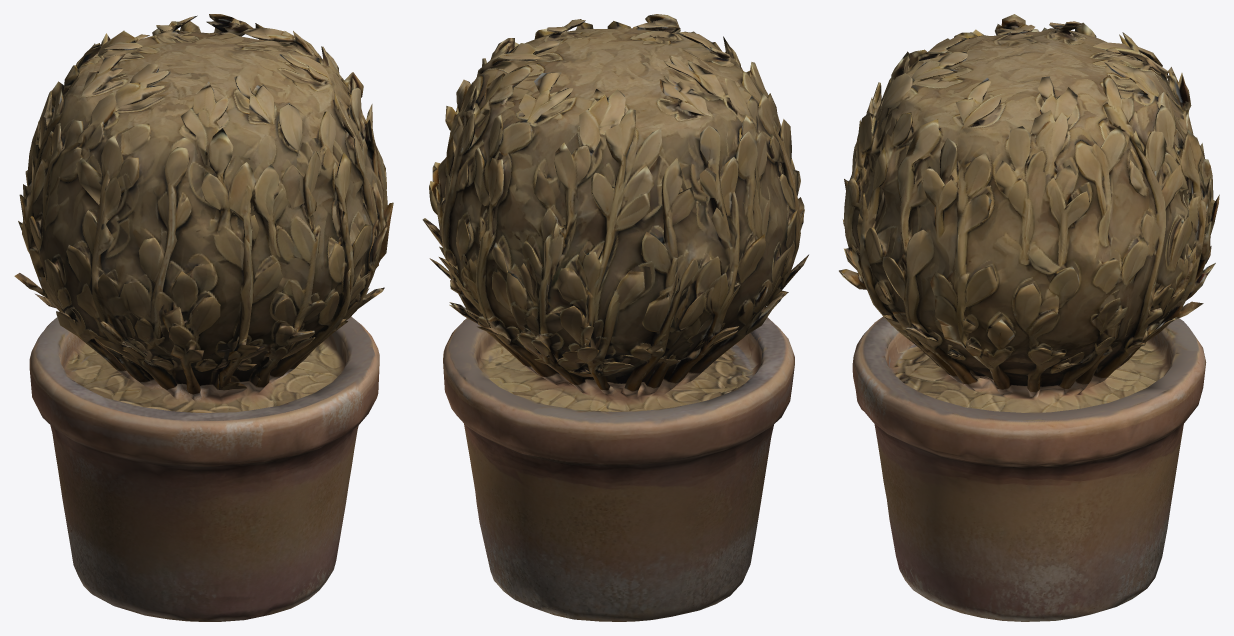
File: Prop_PlantPot.fbx
3 renders of one model, left to right at view 1: azimuth 30°, elevation 25°; view 2: azimuth 150°, elevation 25°; view 3: azimuth 270°, elevation 25°, orthographic.
Parts seen in each view (by area): view 1: texture_mapping; view 2: texture_mapping; view 3: texture_mapping.
Boxes of the visible parts, <box> form: texture_mapping: <box>14,14,393,621</box>; texture_mapping: <box>422,14,808,621</box>; texture_mapping: <box>839,14,1219,621</box>.
Size of the model in its own units: 0.6646 by 0.6659 by 1.
Materials: 1 (1 with a texture image).
